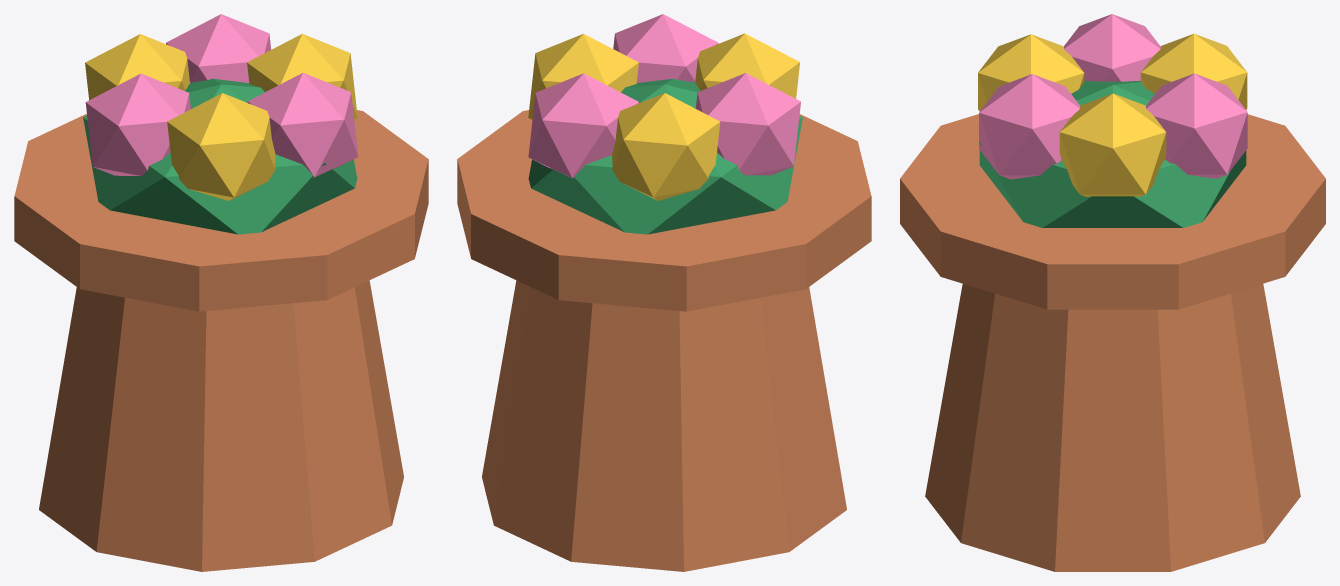
Rendered from flower_pot.glb.
3 views of the same model, side by side, from view 1: azimuth 30°, elevation 25°; view 2: azimuth 150°, elevation 25°; view 3: azimuth 270°, elevation 25° (orthographic).
Visible parts, largest first — view 1: flower_pot; view 2: flower_pot; view 3: flower_pot.
Boxes of the visible parts, x1,y1,x2,y2 form: flower_pot: (14,14,428,571); flower_pot: (457,14,871,571); flower_pot: (900,14,1325,571).
Bounding box in the file's own units: 0.6467 × 0.78 × 0.68.
